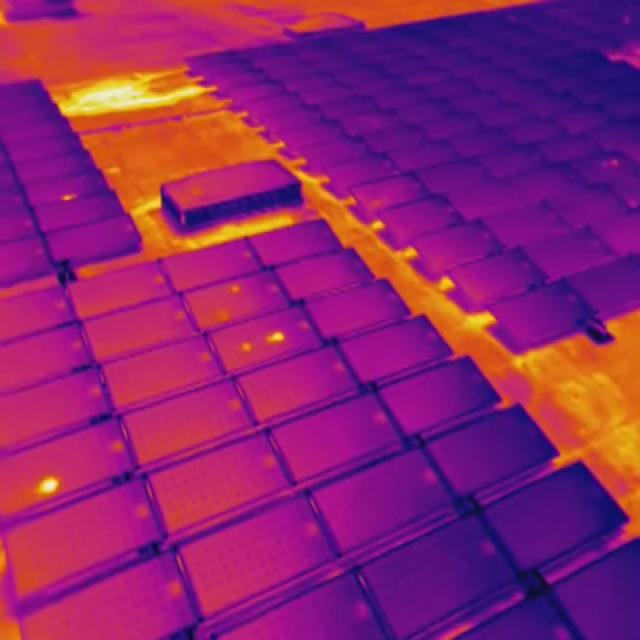Orange-Spots: (36, 475, 59, 495), (266, 329, 284, 344), (64, 194, 73, 199)
